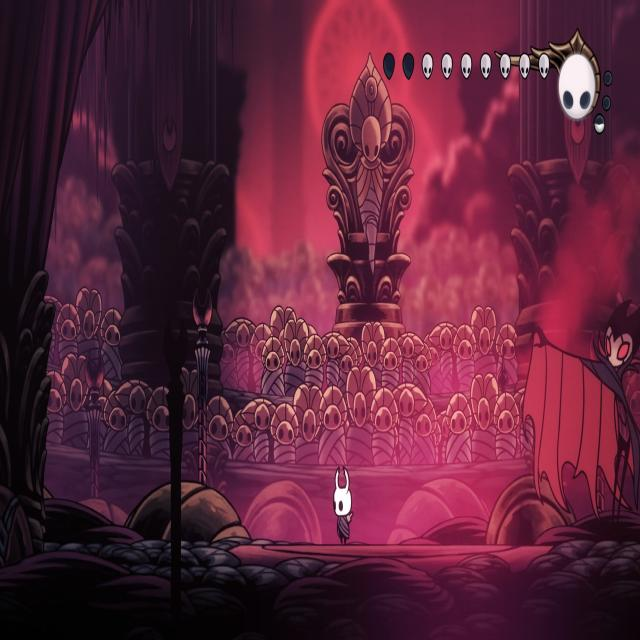Open Cloak: (519, 284, 640, 548)
Player: (330, 462, 356, 548)
